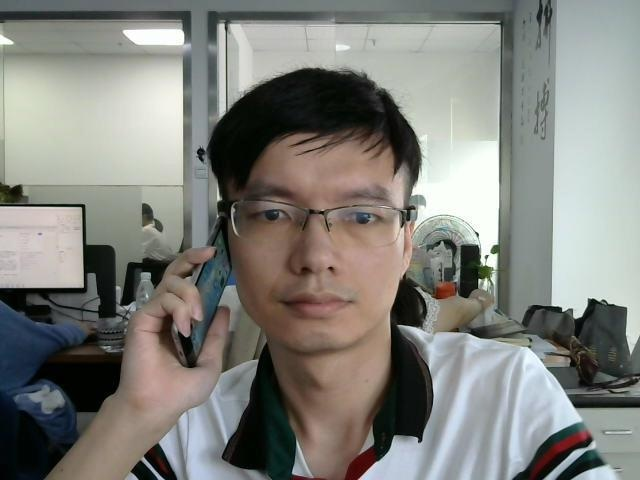hand: (123, 248, 226, 398)
